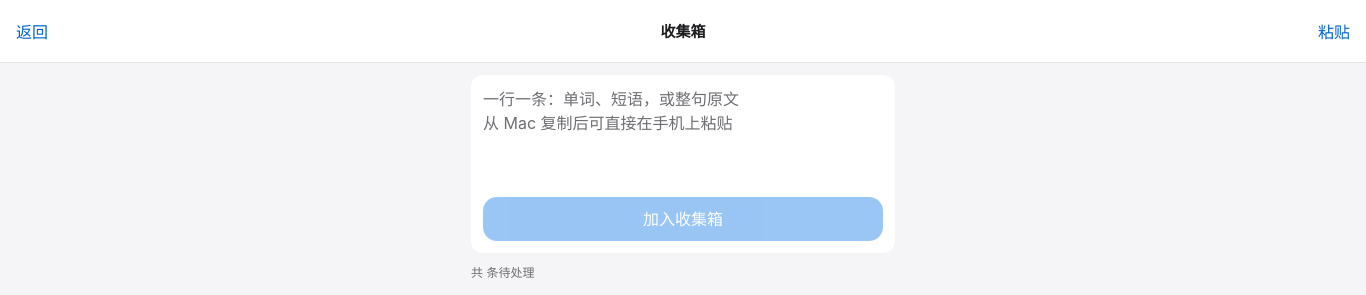
it: Inbox › paste button reads the clipboard into the textarea
Click the button "粘贴" at (1326, 32), box x1=1302 y1=10 x2=1350 y2=54
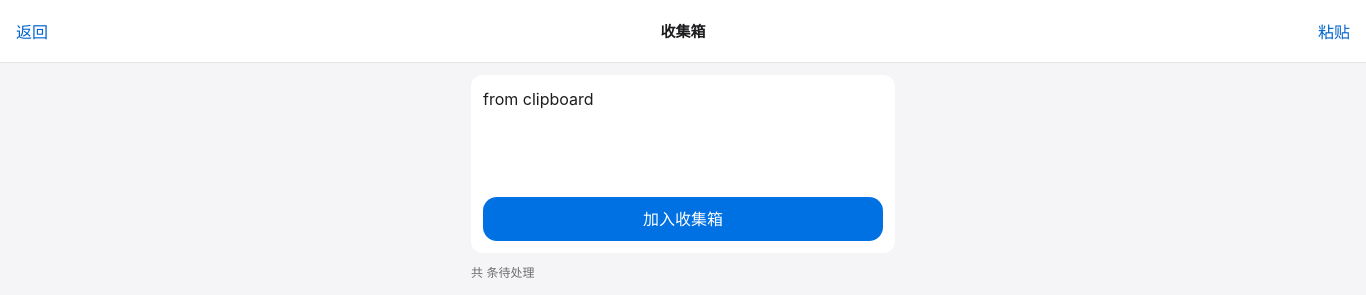
Expected: the text box named "粘贴多行文本" holds "from clipboard", x1=483 y1=87 x2=883 y2=183
